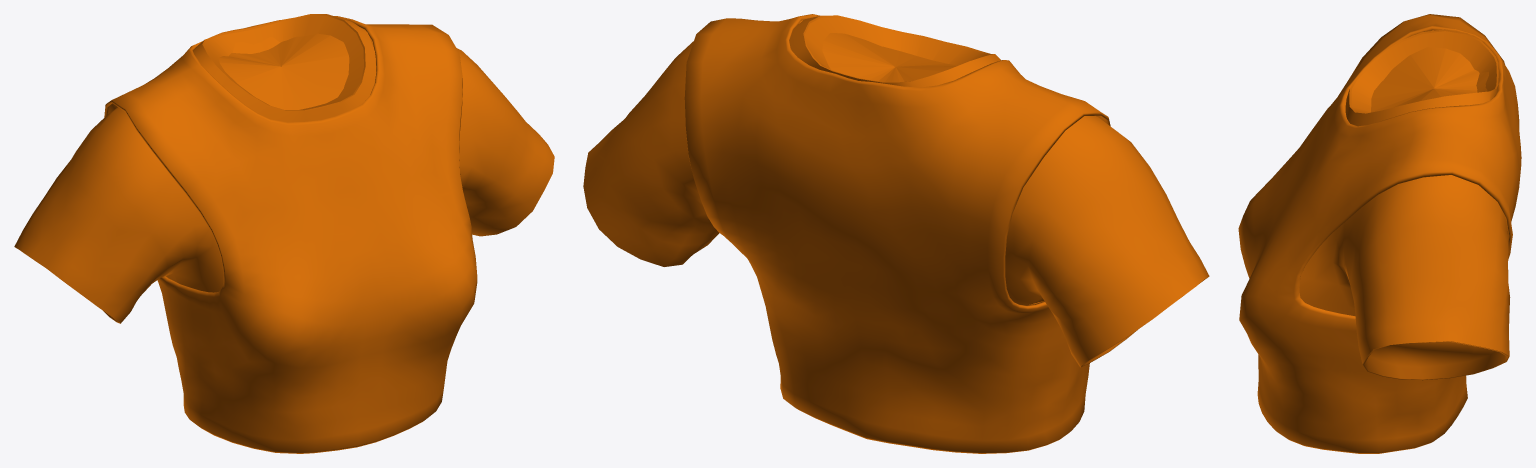
The picture shows the model from 3 angles, left to right: view 1: azimuth 30°, elevation 25°; view 2: azimuth 150°, elevation 25°; view 3: azimuth 270°, elevation 25°; orthographic projection. The views are drawn at different scales.
Parts seen in each view (by area): view 1: hash_5830E136.model; view 2: hash_5830E136.model; view 3: hash_5830E136.model.
Part boxes in pixels (x1,y1,x2,y2): hash_5830E136.model: (14,14,554,453); hash_5830E136.model: (583,14,1209,453); hash_5830E136.model: (1238,14,1521,453).
Size of the model in its own units: 0.6173 by 0.3938 by 0.2975.
